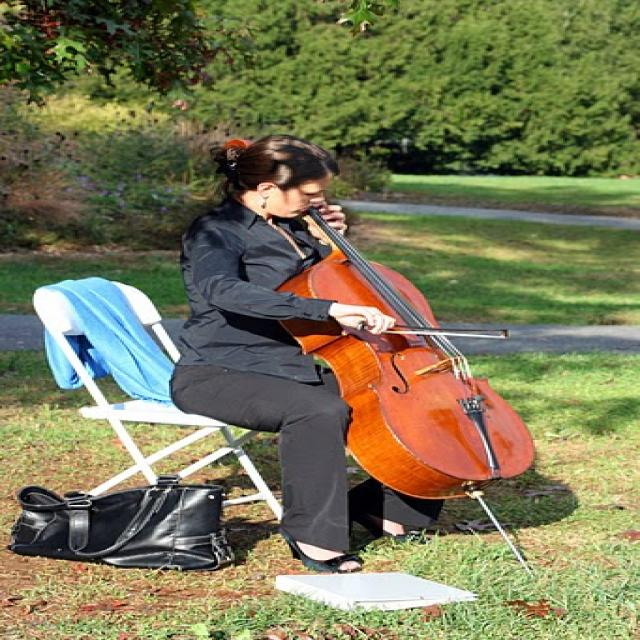cello: (220, 138, 541, 504)
